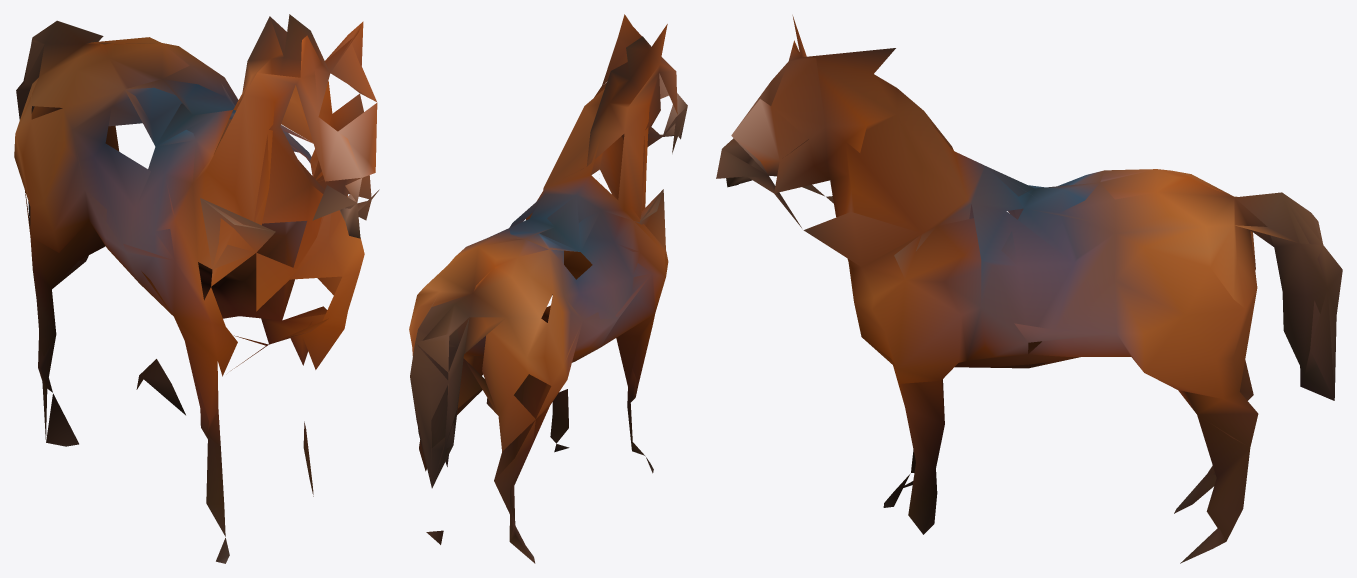
Rendered from animal_horse.glb.
3 views of the same model, side by side, from view 1: azimuth 30°, elevation 25°; view 2: azimuth 150°, elevation 25°; view 3: azimuth 270°, elevation 25° (orthographic). The views are drawn at different scales.
Parts seen in each view (by area): view 1: world; view 2: world; view 3: world.
Boxes of the visible parts, x1,y1,x2,y2 form: world: (14,14,379,563); world: (409,14,687,563); world: (716,15,1342,563).
Bounding box in the file's own units: 0.594 × 1.75 × 1.95.
